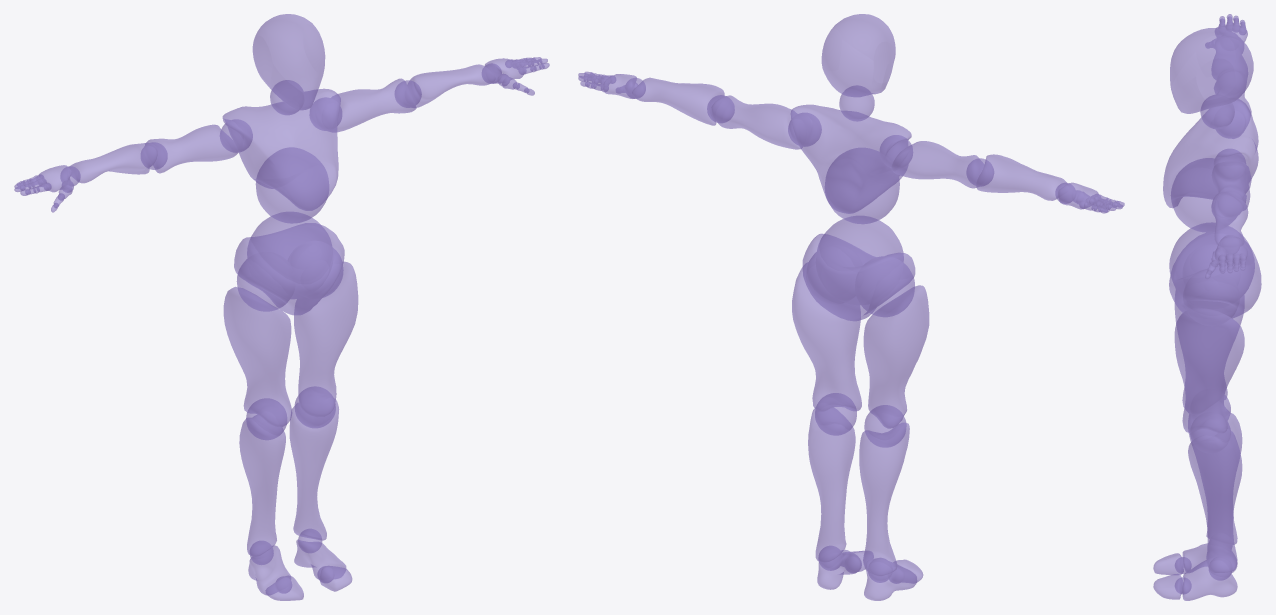
The model's file is luminbody.glb.
The picture shows the model from 3 angles, left to right: view 1: azimuth 30°, elevation 25°; view 2: azimuth 150°, elevation 25°; view 3: azimuth 270°, elevation 25°; orthographic projection. The views are drawn at different scales.
Visible parts, largest first — view 1: LuminBody_Continuous_Mesh; view 2: LuminBody_Continuous_Mesh; view 3: LuminBody_Continuous_Mesh.
Boxes of the visible parts, <box> form: LuminBody_Continuous_Mesh: <box>14,14,549,600</box>; LuminBody_Continuous_Mesh: <box>578,14,1124,600</box>; LuminBody_Continuous_Mesh: <box>1153,14,1261,600</box>.
Bounding box in the file's own units: 1.81 × 1.81 × 0.3207.
